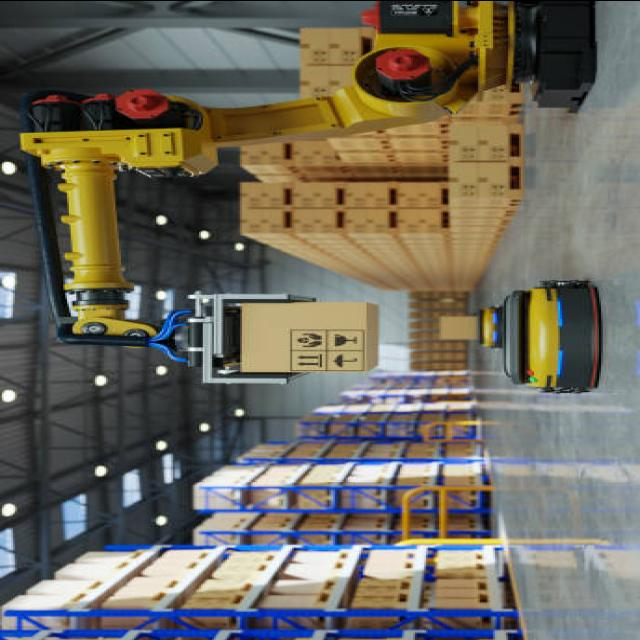Robotic-arm: (0, 0, 526, 362)
